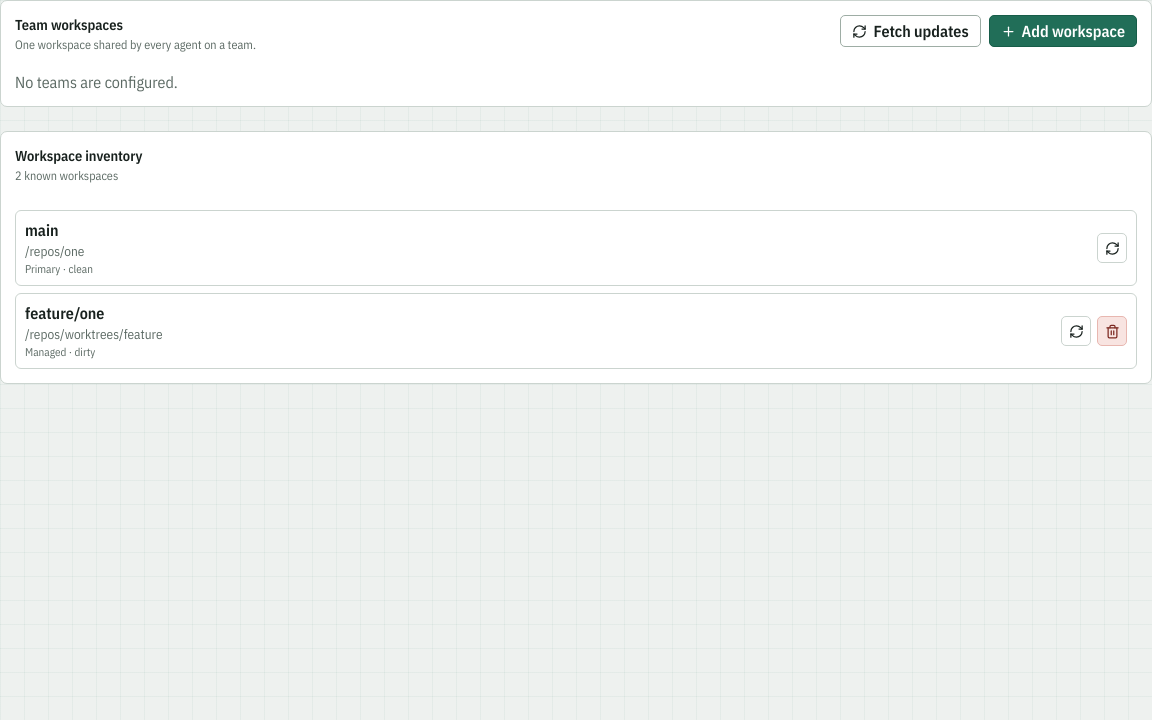
it: CheckoutWorkspace › keeps attach errors inside the open dialog and preserves the draft
Click the button "Add workspace" at (1063, 31), box [989,15,1137,47]
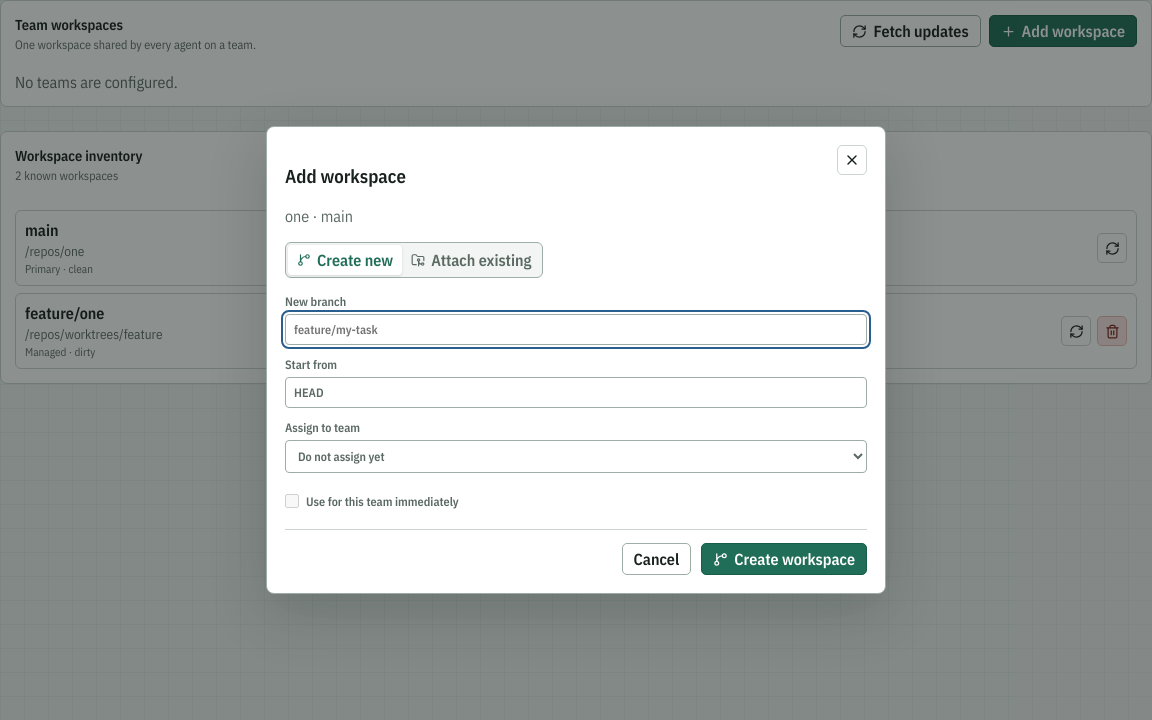
Click the button "Attach existing" at (471, 260), box [402,245,540,275]
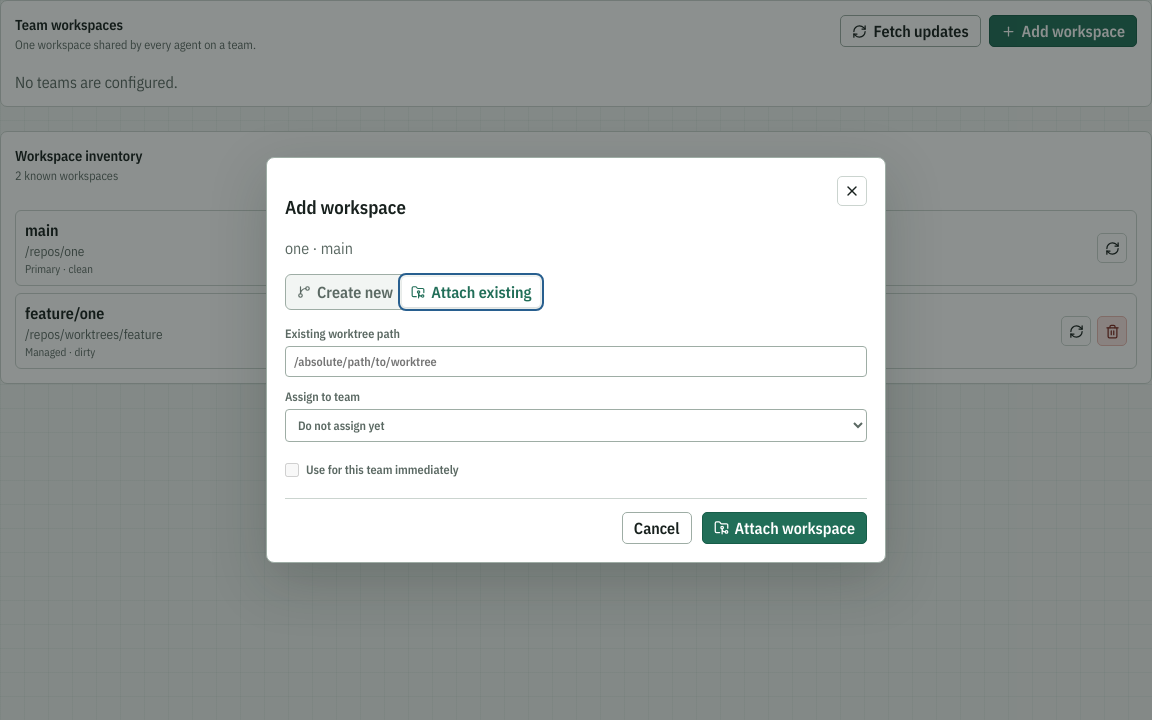
Type "/missing/worktree" into the field labelled "Existing worktree path" at (576, 361), box [285,346,867,377]
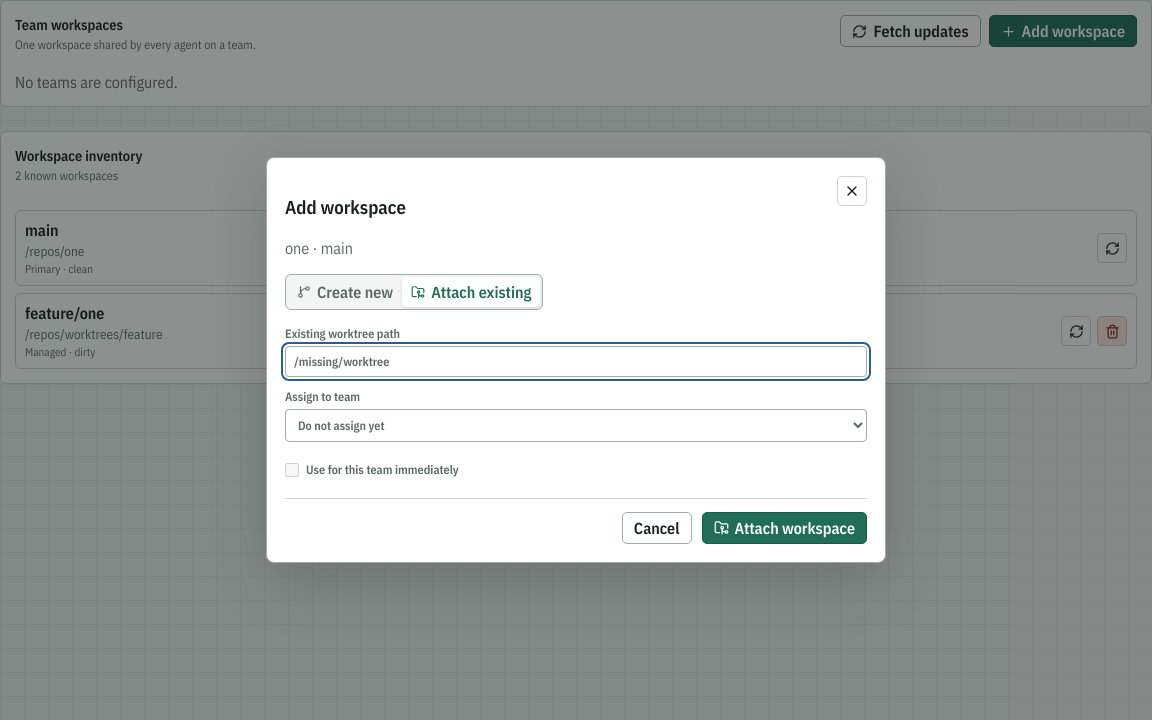
Click the button "Attach workspace" at (784, 528), box [702,512,867,544]
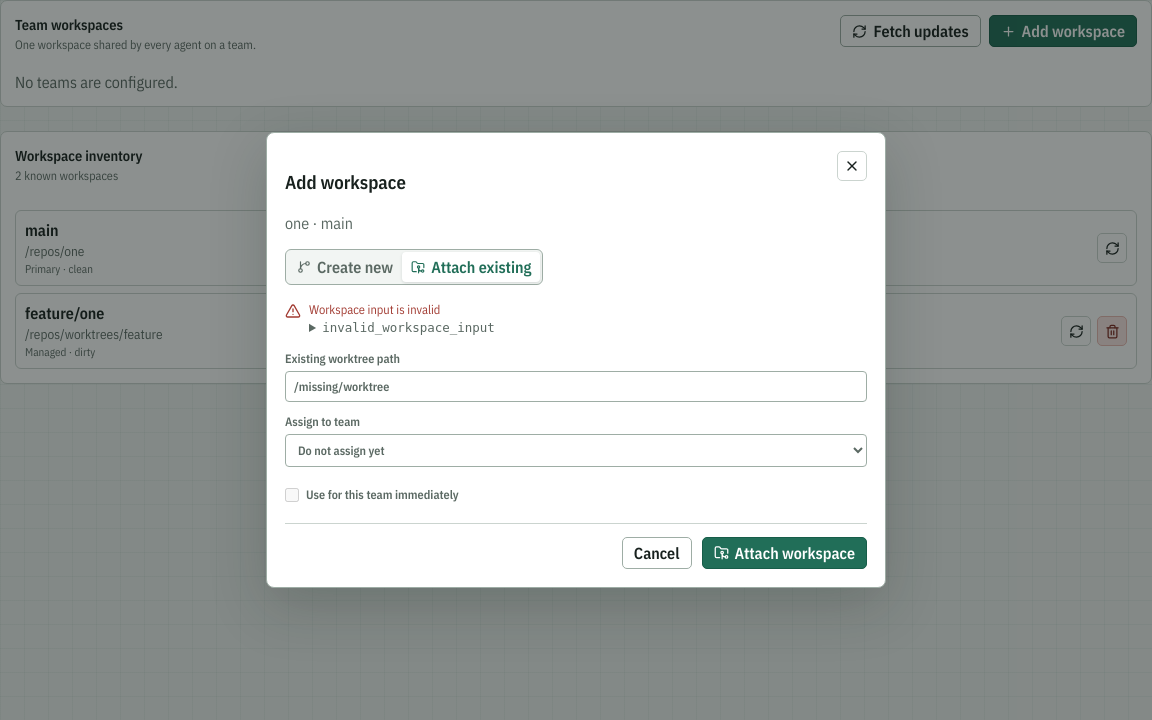
Check: the message shows "Workspace input is invalid", box [309,301,440,317]
Check: the message shows "invalid_workspace_input", box [322,320,495,335]
Check: the number of messages is 1, box [285,301,495,335]
Click the button "Create new" at (345, 267), box [288,252,402,282]
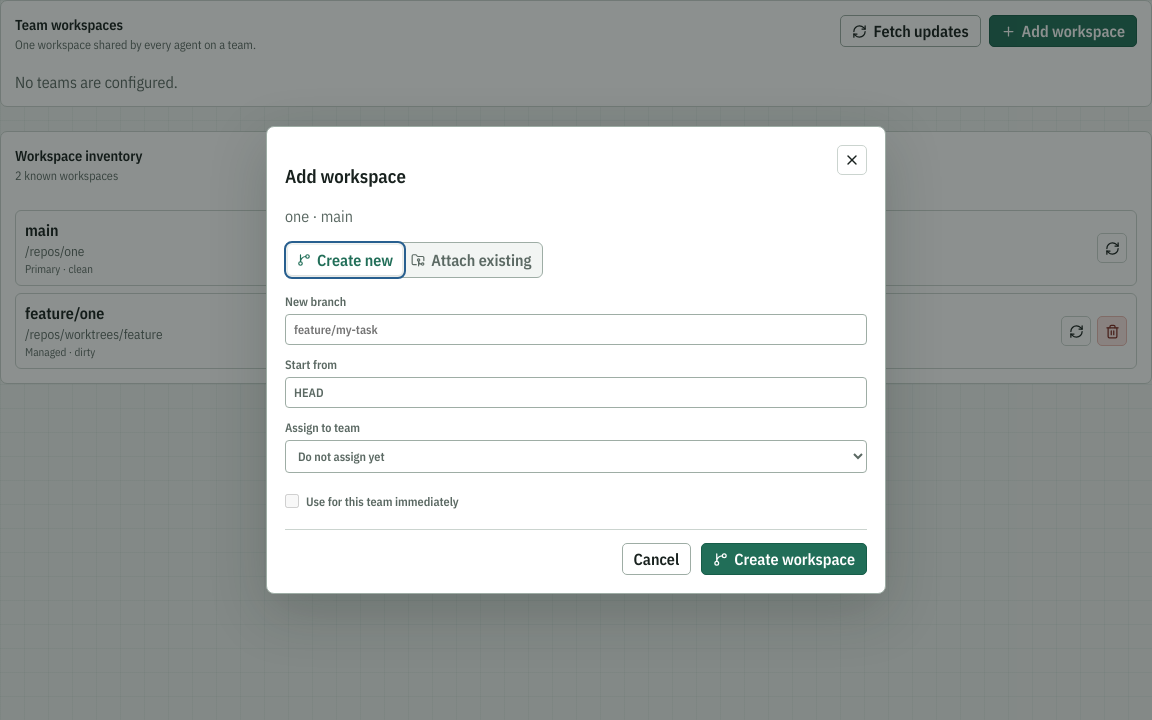
Check: the message "Workspace input is invalid invalid_workspace_input" is gone
